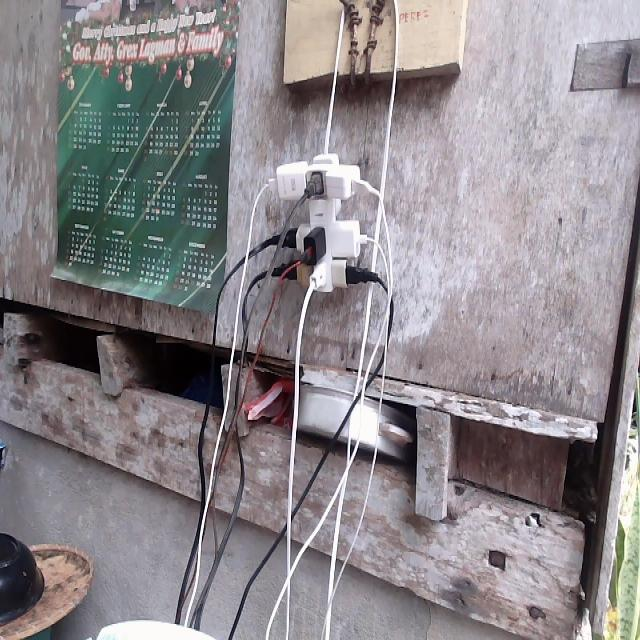-: (257, 148, 381, 295)
